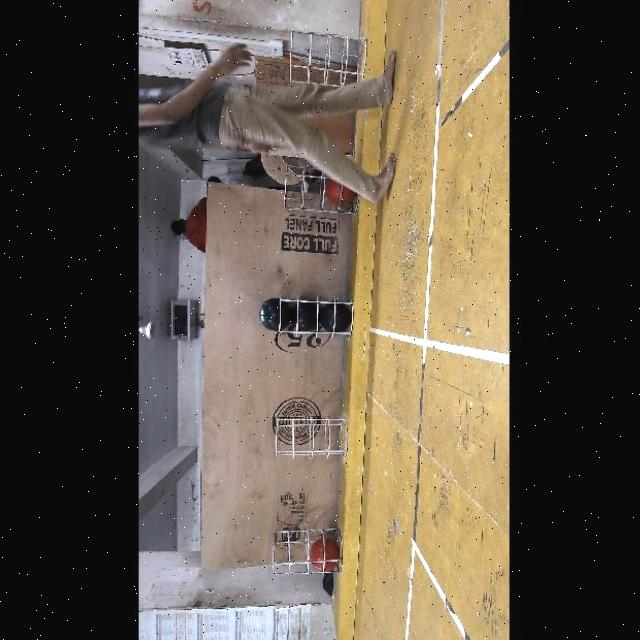P: (258, 299, 291, 331), (321, 302, 351, 332), (292, 302, 320, 332)
R: (311, 537, 339, 571), (327, 183, 355, 205)
S: (268, 522, 344, 580), (278, 167, 364, 215), (288, 33, 362, 86), (266, 412, 344, 462), (273, 296, 349, 338)
